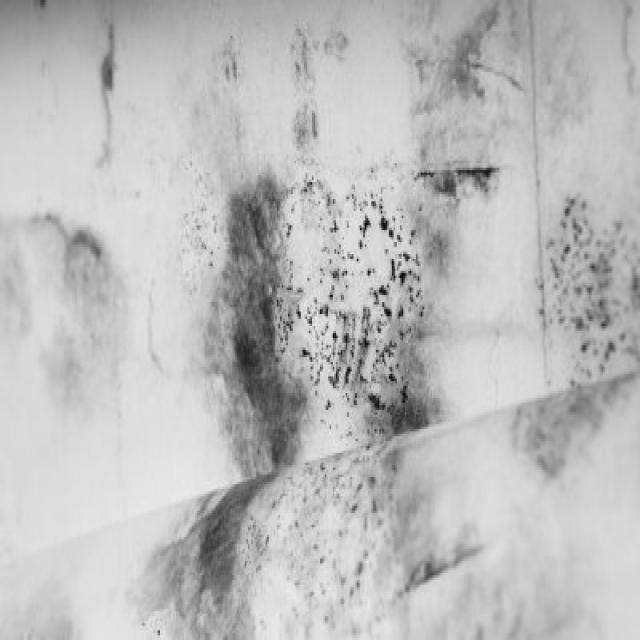stain marks: (140, 0, 637, 638), (0, 0, 120, 417), (0, 516, 135, 640)
